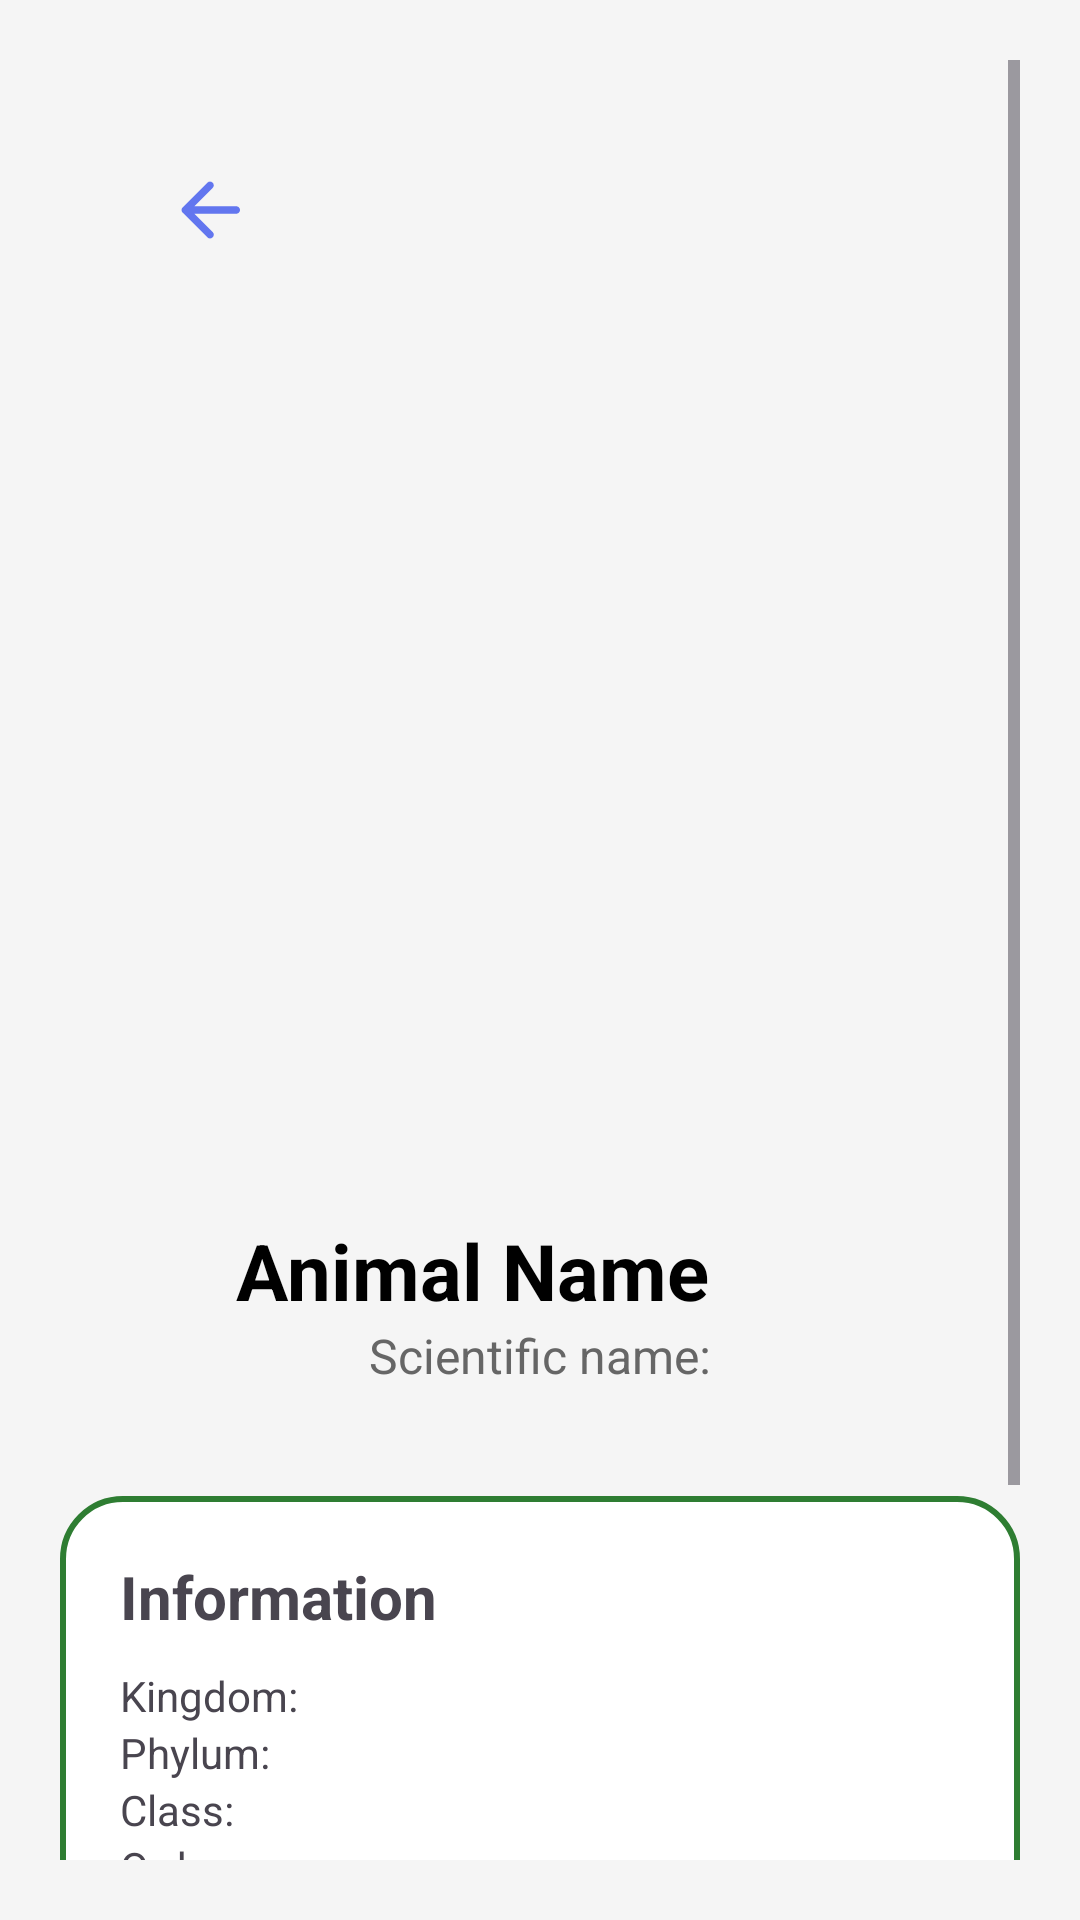

Locate icon controls on the screen. Image size 1080*1920, boxes as (x1, y1, x2, y2).
Back: (181, 181, 240, 239)
